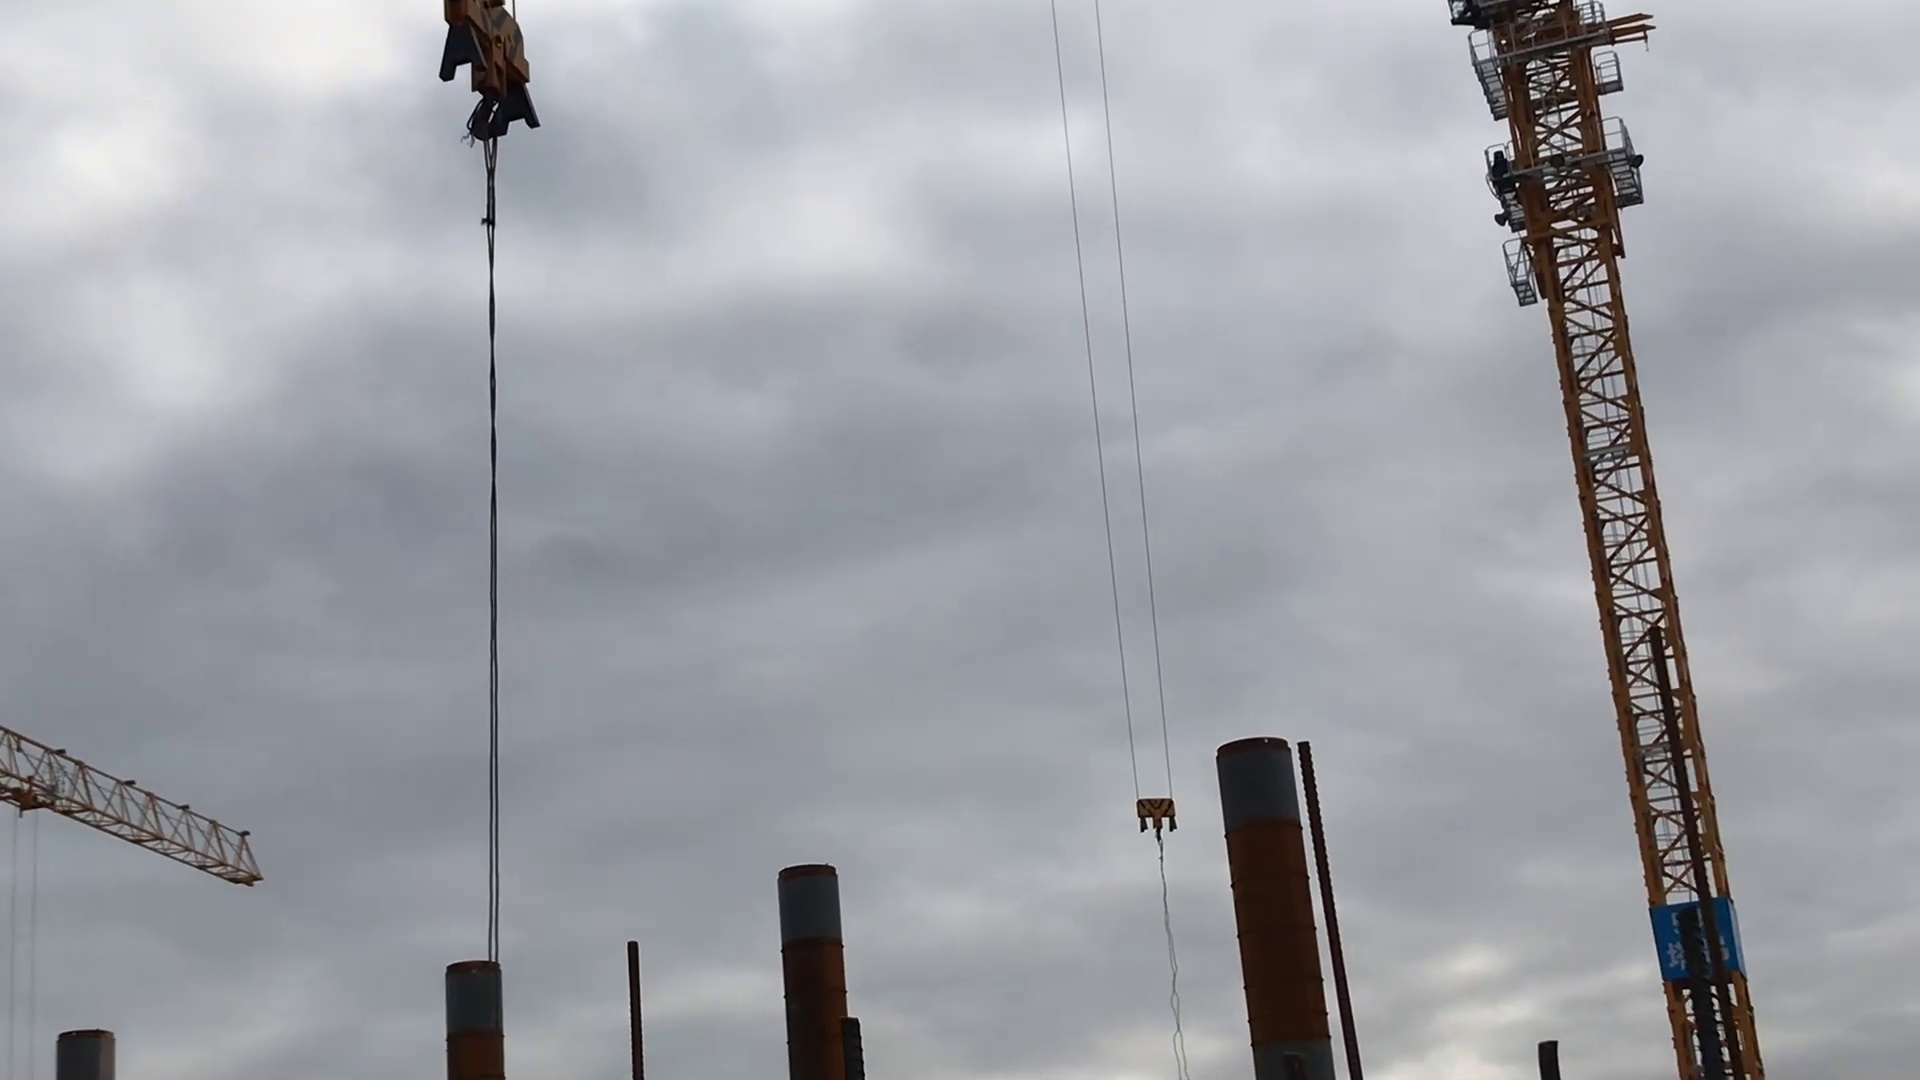hook: (435, 1, 551, 179), (1131, 787, 1180, 847)
